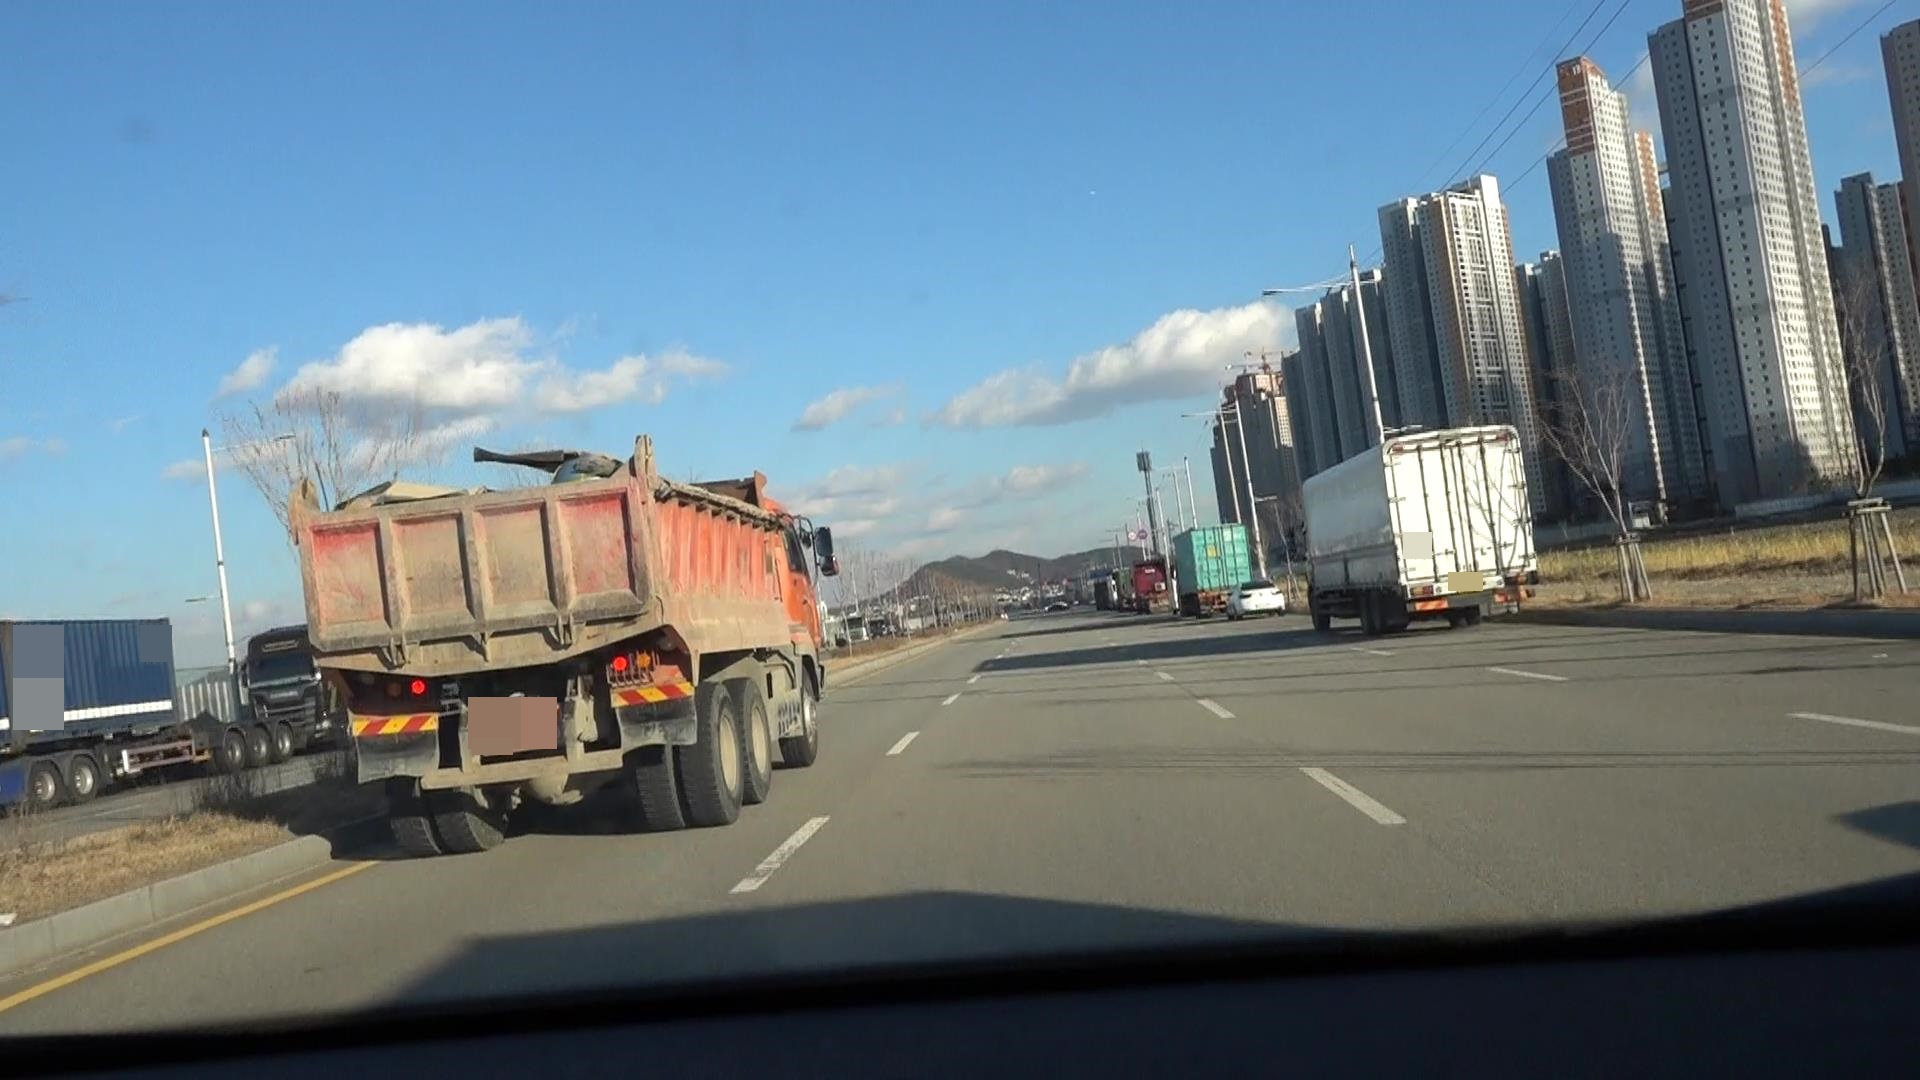불법차량: (286, 433, 839, 857)
